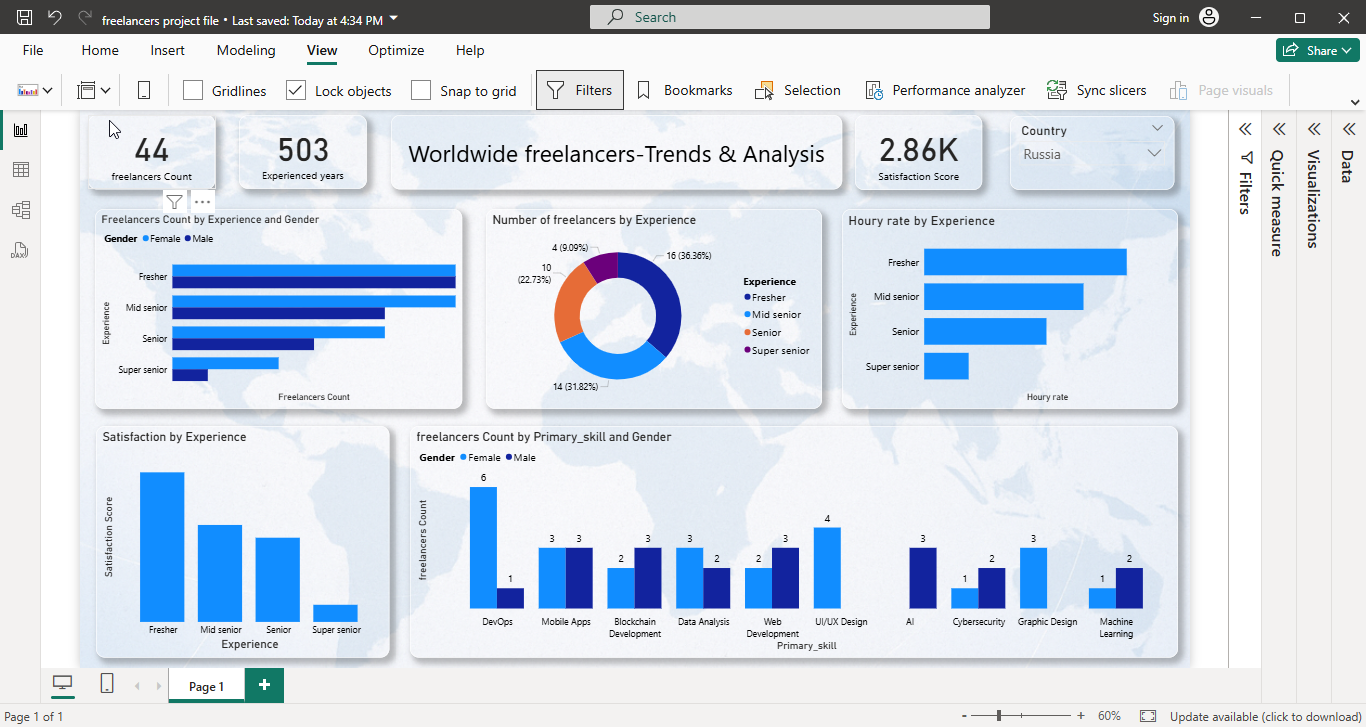

The dashboard page shown, as its layout file describes it:
{"tool":"powerbi","page":{"name":"Page 1","canvas":[1850,930],"ordinal":0},"visuals":[{"type":"donutChart","title":"Number of freelancers by Experience","fields":{"Category":["Table 1 (global_freelancers_raw).Experience(years) (groups)"],"Y":["CountNonNull(Table 1 (global_freelancers_raw).freelancer_ID)"]},"box":[676.4,165.7,559.7,333.1],"z":0},{"type":"columnChart","title":"Satisfaction by Experience","fields":{"Category":["Table 1 (global_freelancers_raw).Experience(years) (groups)"],"Y":["Sum(Table 1 (global_freelancers_raw).Satisfaction)"]},"box":[27.1,525.9,488.7,385.5],"z":1000},{"type":"clusteredColumnChart","fields":{"Category":["Table 1 (global_freelancers_raw).Primary_skill"],"Series":["Table 1 (global_freelancers_raw). Gender"],"Y":["CountNonNull(Table 1 (global_freelancers_raw).freelancer_ID)"]},"box":[549.5,525.9,1280,385.5],"z":2000},{"type":"barChart","fields":{"Category":["Table 1 (global_freelancers_raw).Experience(years) (groups)"],"Y":["Sum(Table 1 (global_freelancers_raw).Houry rate)"]},"box":[1269.9,165.7,559.7,333.1],"z":3000},{"type":"clusteredBarChart","title":"Freelancers Count by Experience and Gender","fields":{"Category":["Table 1 (global_freelancers_raw).Experience(years) (groups)"],"Y":["CountNonNull(Table 1 (global_freelancers_raw).freelancer_ID)"],"Series":["Table 1 (global_freelancers_raw). Gender"]},"box":[25.4,165.7,612.1,333.1],"z":4000},{"type":"card","fields":{"Values":["CountNonNull(Table 1 (global_freelancers_raw).freelancer_ID)"]},"box":[26.7,8.9,159.9,122.6],"z":5000},{"type":"card","fields":{"Values":["Sum(Table 1 (global_freelancers_raw).Experience(years))"]},"box":[207.9,10.7,284.3,122.6],"z":6000},{"type":"slicer","fields":{"Values":["Table 1 (global_freelancers_raw).Country"]},"box":[1550,10,273.3,123.3],"z":7000},{"type":"card","fields":{"Values":["Sum(Table 1 (global_freelancers_raw).Satisfaction)"]},"box":[1292.3,8.3,212.3,124.9],"z":8000},{"type":"shape","box":[518.9,8.9,751.7,124.4],"z":9000}]}

Visuals, with their boxes on the page's 1850x930 design canvas (x1, y1, x2, y2). These are canvas units, not pixel positions in the 1366x727 screenshot, which may show the page scaled, cropped or inside an application window:
"Number of freelancers by Experience" donutChart: detection(676, 166, 1236, 499)
"Satisfaction by Experience" columnChart: detection(27, 526, 516, 911)
clusteredColumnChart - Table 1 (global_freelancers_raw).Primary_skill x Table 1 (global_freelancers_raw). Gender: detection(550, 526, 1830, 911)
barChart - Table 1 (global_freelancers_raw).Experience(years) (groups) x Sum(Table 1 (global_freelancers_raw).Houry rate): detection(1270, 166, 1830, 499)
"Freelancers Count by Experience and Gender" clusteredBarChart: detection(25, 166, 638, 499)
card - CountNonNull(Table 1 (global_freelancers_raw).freelancer_ID): detection(27, 9, 187, 132)
card - Sum(Table 1 (global_freelancers_raw).Experience(years)): detection(208, 11, 492, 133)
slicer - Table 1 (global_freelancers_raw).Country: detection(1550, 10, 1823, 133)
card - Sum(Table 1 (global_freelancers_raw).Satisfaction): detection(1292, 8, 1505, 133)
shape: detection(519, 9, 1271, 133)
